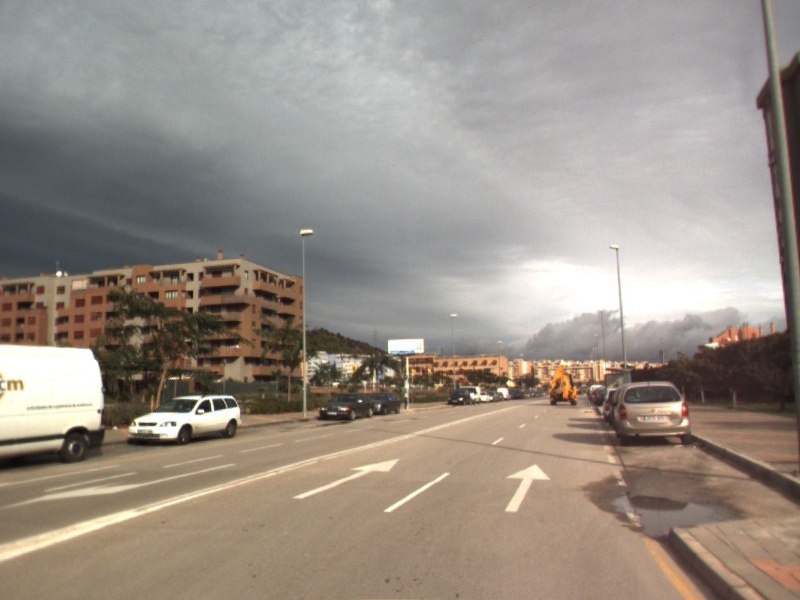STRAIGHT: (291, 456, 402, 501), (502, 461, 552, 514)
